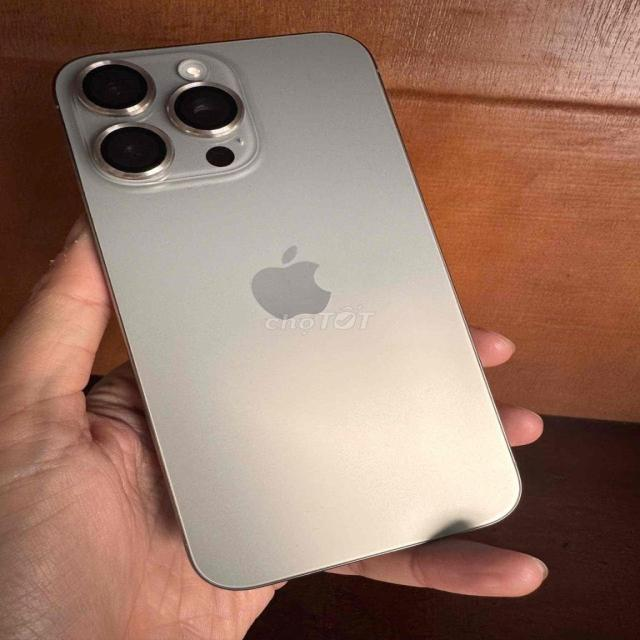gen_15: (26, 23, 526, 585)
